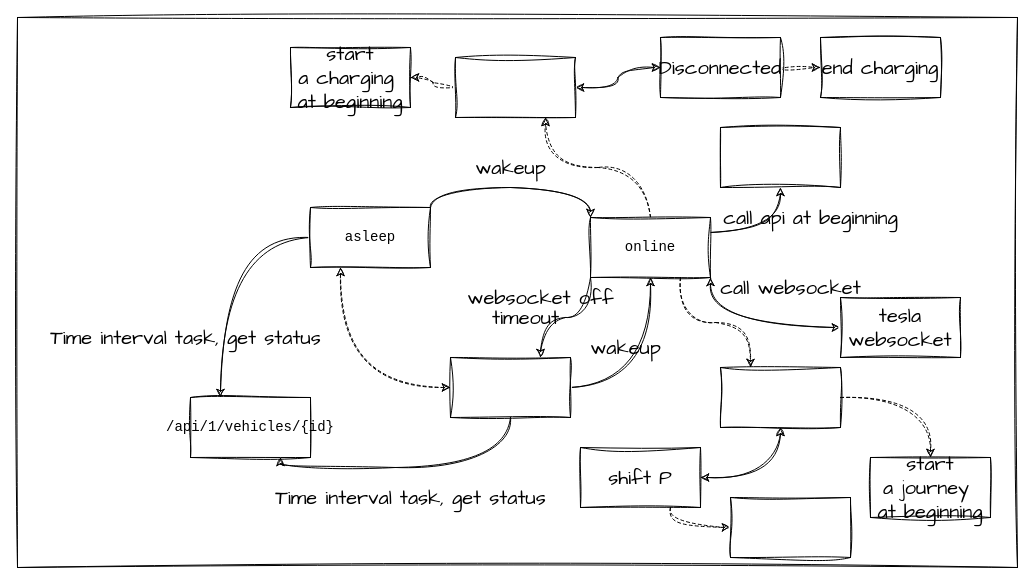
Image size: 1035x585. Some labels were removed from this diagram. Each missing label, with the centre of its shape:
/api/1/vehicles/{id}/vehicle_data: (x=780, y=157)
Charging /Starting: (x=515, y=87)
end a journey: (x=790, y=527)
offline: (x=510, y=387)
shift DNR: (x=780, y=397)
